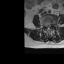CCS_normal: (47, 24, 49, 31)
LFS_normal: (50, 22, 52, 27)
LLS_normal: (49, 24, 50, 29)
RFS_stenosis: (44, 23, 46, 28)
RLS_normal: (46, 24, 47, 29)
